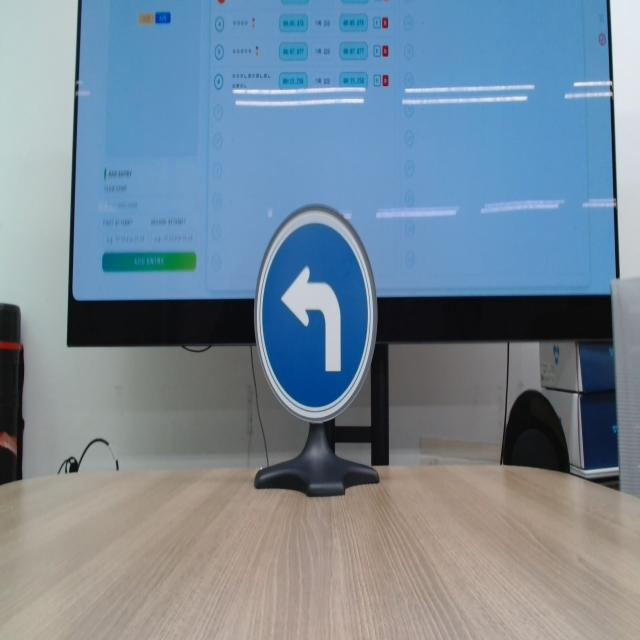left_direction: (249, 184, 383, 428)
